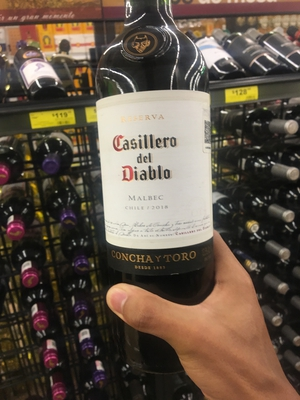casillero del diablo malbec: (88, 2, 251, 343)
